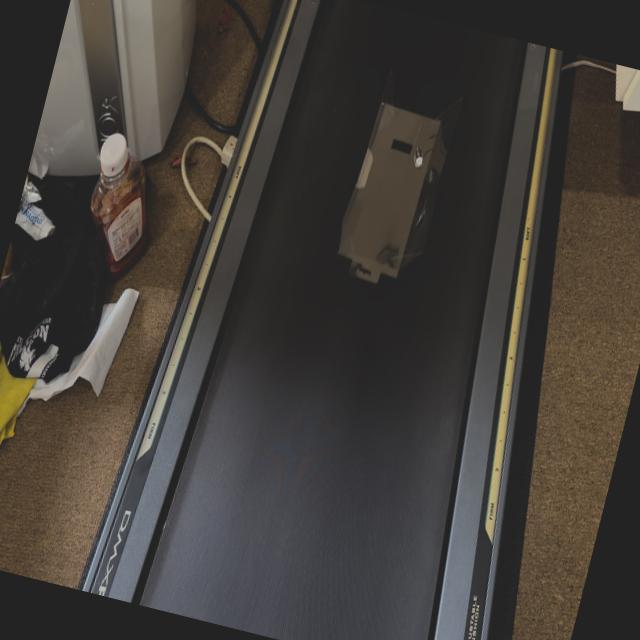Trash: (329, 62, 468, 298)
